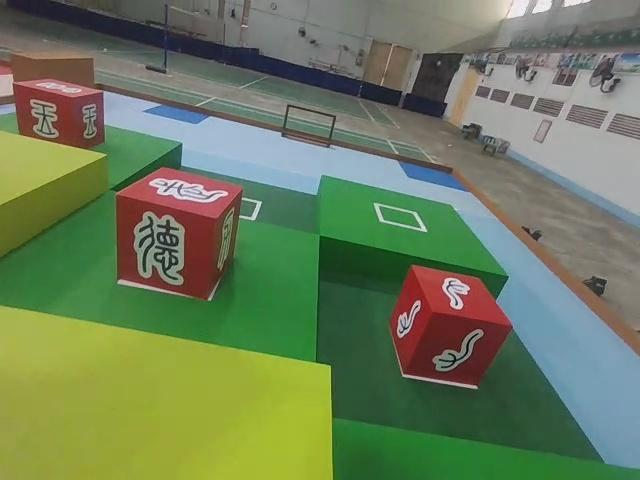R2 Fake: (114, 167, 242, 306)
R2 Real: (385, 266, 514, 389), (11, 77, 110, 148)
